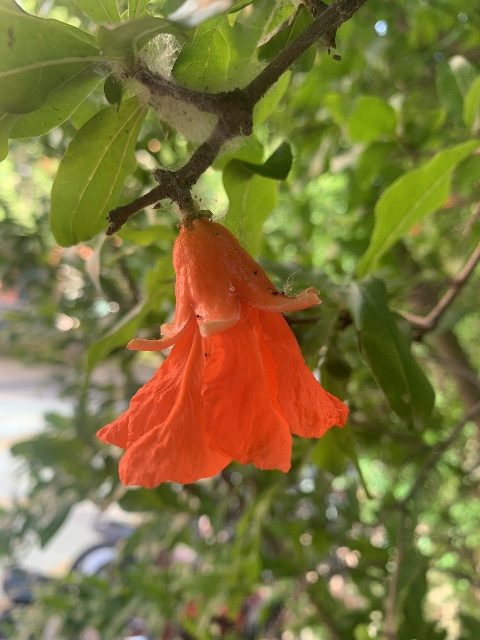flower: (99, 217, 347, 488)
